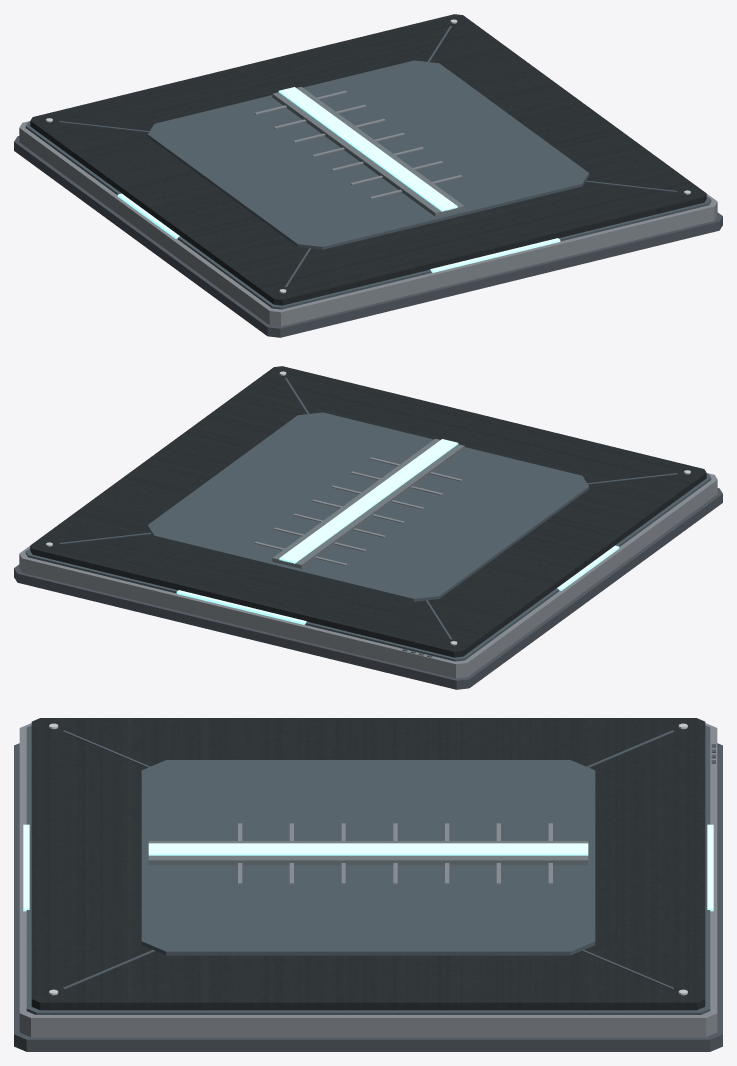
Rendered from m03-metal-service-conduit.glb.
3 views of the same model, one above another, from view 1: azimuth 30°, elevation 25°; view 2: azimuth 150°, elevation 25°; view 3: azimuth 270°, elevation 25° (orthographic). The views are drawn at different scales.
Parts seen in each view (by area): view 1: service-conduit/003, service-conduit/020, service-conduit/001, service-conduit/000, service-conduit/022, service-conduit/021, service-conduit/002, service-conduit/014; view 2: service-conduit/003, service-conduit/020, service-conduit/001, service-conduit/000, service-conduit/022, service-conduit/021, service-conduit/002, service-conduit/013; view 3: service-conduit/003, service-conduit/020, service-conduit/001, service-conduit/000, service-conduit/002, service-conduit/021, service-conduit/022, service-conduit/013, service-conduit/014.
Boxes of the visible parts, <box> form: service-conduit/003: <box>30,14,706,305</box>; service-conduit/020: <box>147,60,589,249</box>; service-conduit/001: <box>19,121,717,326</box>; service-conduit/000: <box>14,136,722,337</box>; service-conduit/022: <box>278,87,457,211</box>; service-conduit/021: <box>272,86,464,216</box>; service-conduit/002: <box>25,121,711,309</box>; service-conduit/014: <box>430,238,560,272</box>; service-conduit/003: <box>30,366,706,657</box>; service-conduit/020: <box>147,412,589,601</box>; service-conduit/001: <box>19,473,717,678</box>; service-conduit/000: <box>14,488,722,689</box>; service-conduit/022: <box>279,439,458,563</box>; service-conduit/021: <box>272,438,464,568</box>; service-conduit/002: <box>25,473,711,661</box>; service-conduit/013: <box>176,590,306,624</box>; service-conduit/003: <box>31,718,705,1010</box>; service-conduit/020: <box>141,760,595,955</box>; service-conduit/001: <box>19,723,717,1037</box>; service-conduit/000: <box>14,743,722,1051</box>; service-conduit/002: <box>26,725,710,1014</box>; service-conduit/021: <box>148,841,588,865</box>; service-conduit/022: <box>148,843,588,855</box>; service-conduit/013: <box>707,824,713,911</box>; service-conduit/014: <box>23,824,29,911</box>.
Size of the model in its own units: 1 by 0.083 by 1.
Materials: 7 (1 with a texture image).
